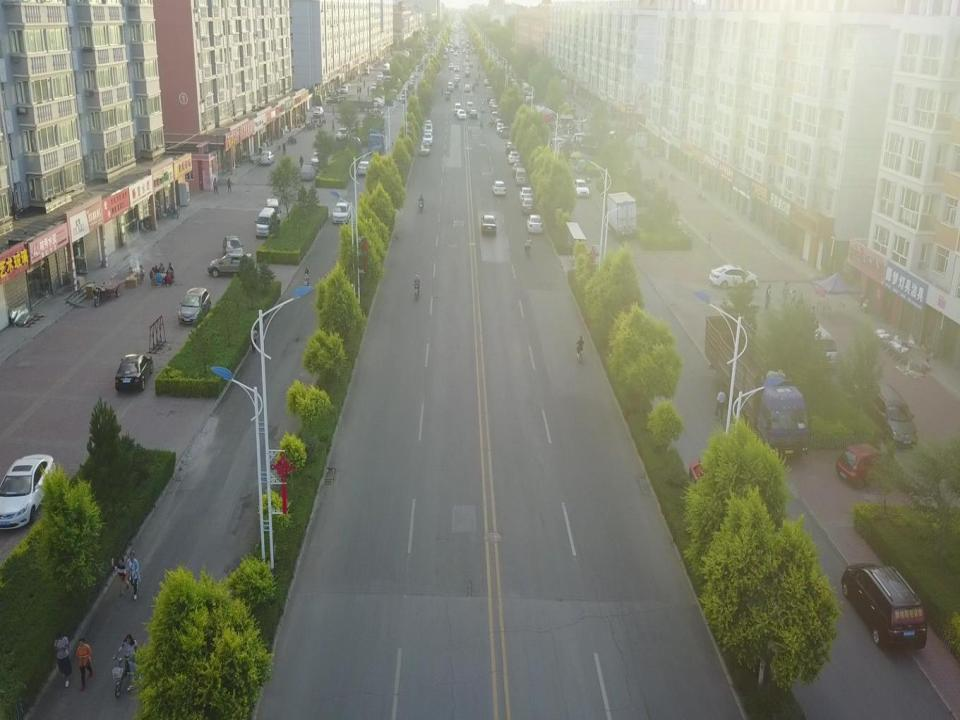car: (841, 561, 927, 649), (0, 454, 56, 529), (865, 383, 918, 446), (836, 442, 903, 488), (115, 353, 153, 390), (178, 286, 210, 325), (710, 264, 760, 288), (207, 251, 253, 277), (222, 236, 244, 264), (331, 202, 352, 222), (526, 214, 543, 234), (481, 214, 497, 234), (301, 163, 318, 181), (521, 194, 536, 214), (573, 179, 588, 197), (259, 150, 275, 164), (311, 150, 324, 166), (335, 127, 349, 141), (492, 180, 505, 195), (520, 186, 532, 202), (326, 95, 345, 105), (358, 160, 370, 175), (513, 162, 524, 178), (367, 98, 384, 108), (508, 150, 520, 164), (312, 105, 324, 117), (498, 126, 510, 138), (419, 141, 429, 155), (422, 133, 434, 144), (422, 124, 433, 136), (505, 141, 516, 153), (456, 109, 466, 120), (496, 122, 504, 134), (424, 119, 432, 130), (340, 85, 349, 93), (469, 109, 477, 118), (489, 99, 497, 107), (370, 83, 378, 90), (454, 74, 460, 81), (464, 84, 470, 91), (484, 78, 489, 86), (468, 61, 474, 67), (448, 63, 453, 70), (454, 65, 459, 71), (465, 72, 470, 77), (466, 56, 470, 62), (466, 67, 470, 73), (442, 55, 448, 59)
truck: (704, 313, 808, 461), (605, 191, 637, 238), (337, 94, 375, 112), (368, 126, 385, 155), (486, 86, 495, 102)
van: (801, 319, 838, 369), (254, 207, 277, 237), (266, 198, 282, 225), (514, 167, 526, 185), (453, 102, 462, 114), (492, 110, 498, 122), (467, 102, 473, 112), (447, 82, 453, 91), (364, 67, 369, 74)
